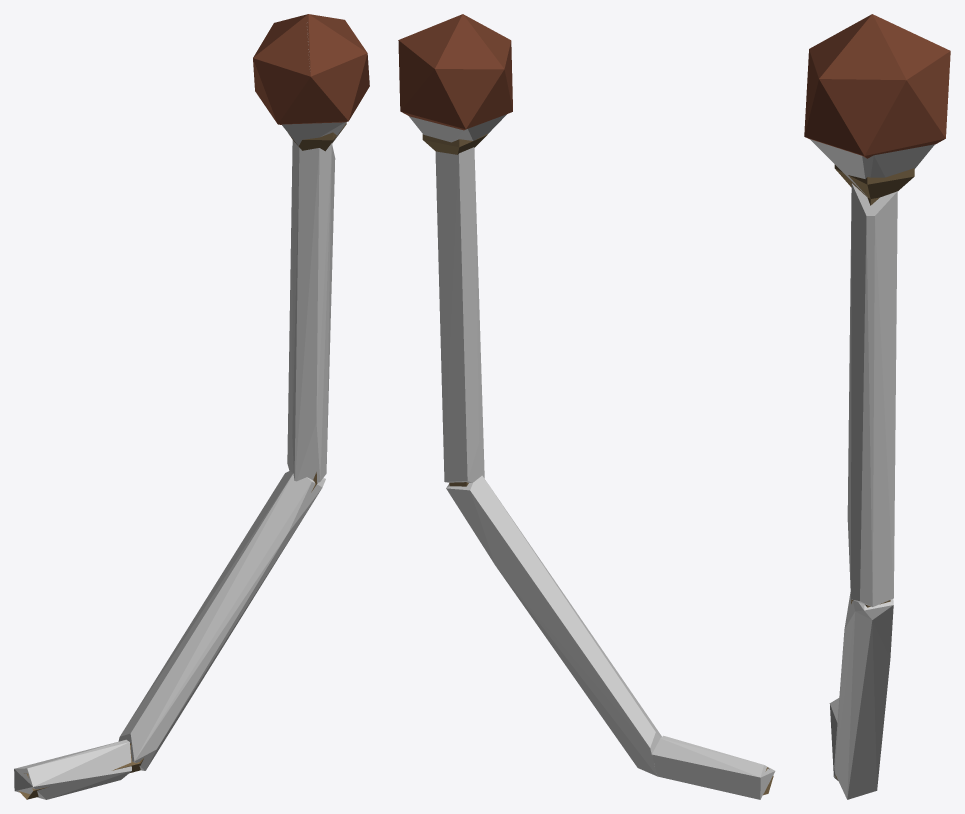
File: SM_Bld_Planetarium_01_ring01_Planet_02.fbx
3 renders of one model, left to right at view 1: azimuth 30°, elevation 25°; view 2: azimuth 150°, elevation 25°; view 3: azimuth 270°, elevation 25°, orthographic. The views are drawn at different scales.
Parts seen in each view (by area): view 1: SM_Bld_Planetarium_01_ring01_Planet_02_ConvexHulls, SM_Bld_Planetarium_01_ring01_Planet_02; view 2: SM_Bld_Planetarium_01_ring01_Planet_02_ConvexHulls, SM_Bld_Planetarium_01_ring01_Planet_02; view 3: SM_Bld_Planetarium_01_ring01_Planet_02_ConvexHulls, SM_Bld_Planetarium_01_ring01_Planet_02.
Boxes of the visible parts, box(x1,y1,x2,y2) form: SM_Bld_Planetarium_01_ring01_Planet_02_ConvexHulls: box(14, 22, 346, 799); SM_Bld_Planetarium_01_ring01_Planet_02: box(19, 14, 369, 799); SM_Bld_Planetarium_01_ring01_Planet_02_ConvexHulls: box(409, 114, 775, 799); SM_Bld_Planetarium_01_ring01_Planet_02: box(398, 14, 773, 795); SM_Bld_Planetarium_01_ring01_Planet_02_ConvexHulls: box(810, 139, 934, 799); SM_Bld_Planetarium_01_ring01_Planet_02: box(804, 14, 950, 779).
Bounding box in the file's own units: 33.61 × 9.59 × 64.73.
Materials: 2 (1 with a texture image).
